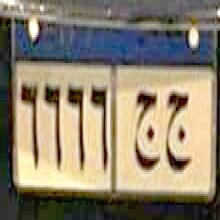6: (88, 78, 111, 177), (18, 74, 40, 172), (65, 76, 86, 176), (42, 79, 63, 175)
jeem: (132, 86, 161, 182), (165, 82, 193, 181)
